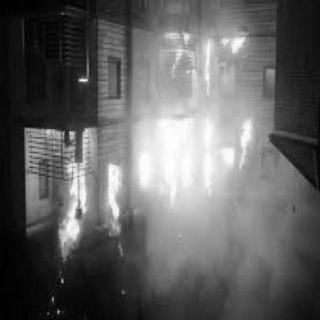Fire: (47, 130, 94, 258), (137, 114, 197, 210), (104, 163, 126, 246), (166, 31, 197, 78), (202, 112, 215, 198), (238, 119, 256, 173), (204, 38, 216, 100), (220, 37, 248, 57), (220, 145, 236, 172)
